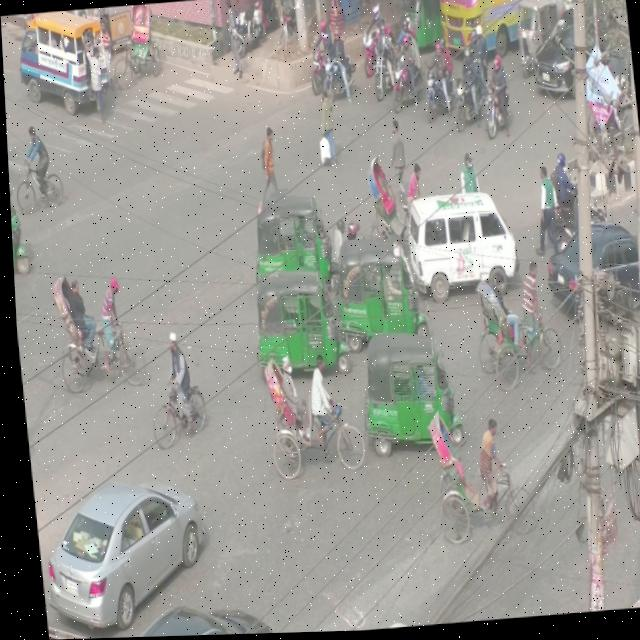cng: (349, 331, 461, 483), (241, 271, 348, 385), (241, 189, 337, 312), (337, 230, 425, 351)
rikshaw: (420, 402, 535, 553), (259, 358, 360, 491), (466, 269, 561, 407), (41, 271, 141, 401), (360, 153, 435, 249), (104, 4, 162, 94)
